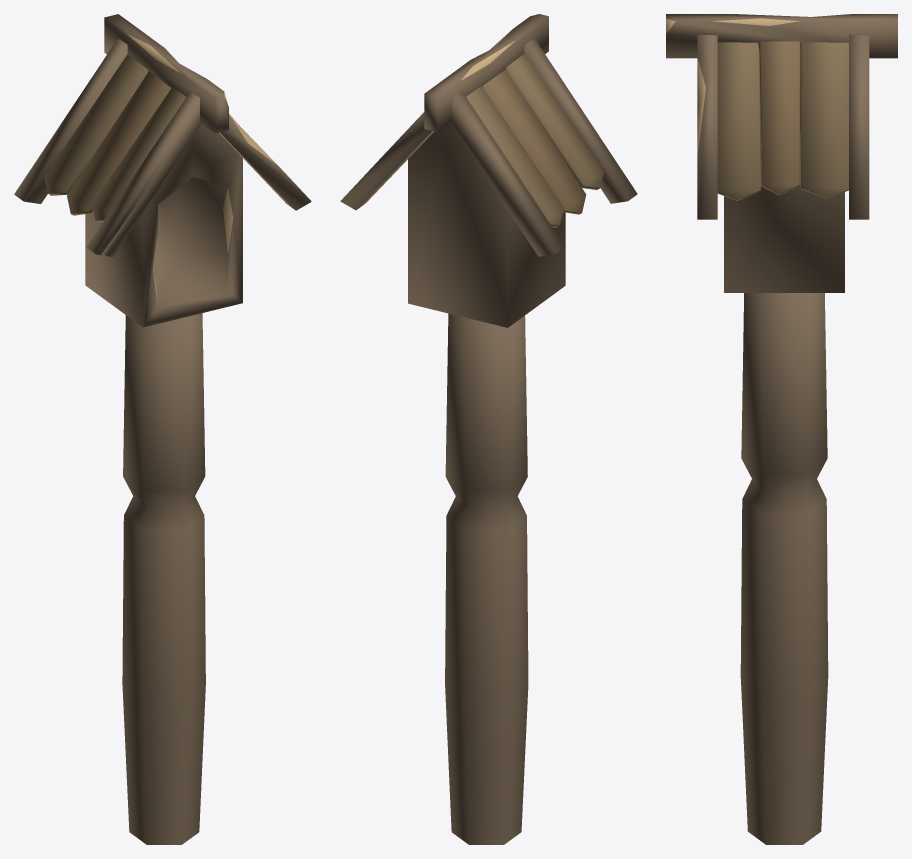
File: rpgpp_lt_bird_house_01 -col.glb
The picture shows the model from 3 angles, left to right: view 1: azimuth 30°, elevation 25°; view 2: azimuth 150°, elevation 25°; view 3: azimuth 270°, elevation 25°; orthographic projection. The views are drawn at different scales.
Visible parts, largest first — view 1: rpgpp_lt_bird_house_01 -col; view 2: rpgpp_lt_bird_house_01 -col; view 3: rpgpp_lt_bird_house_01 -col.
Boxes of the visible parts, x1,y1,x2,y2 form: rpgpp_lt_bird_house_01 -col: [14, 14, 311, 844]; rpgpp_lt_bird_house_01 -col: [340, 14, 637, 844]; rpgpp_lt_bird_house_01 -col: [666, 14, 897, 844].
Bounding box in the file's own units: 0.7454 × 2.56 × 0.661.
Materials: 1 (1 with a texture image).
